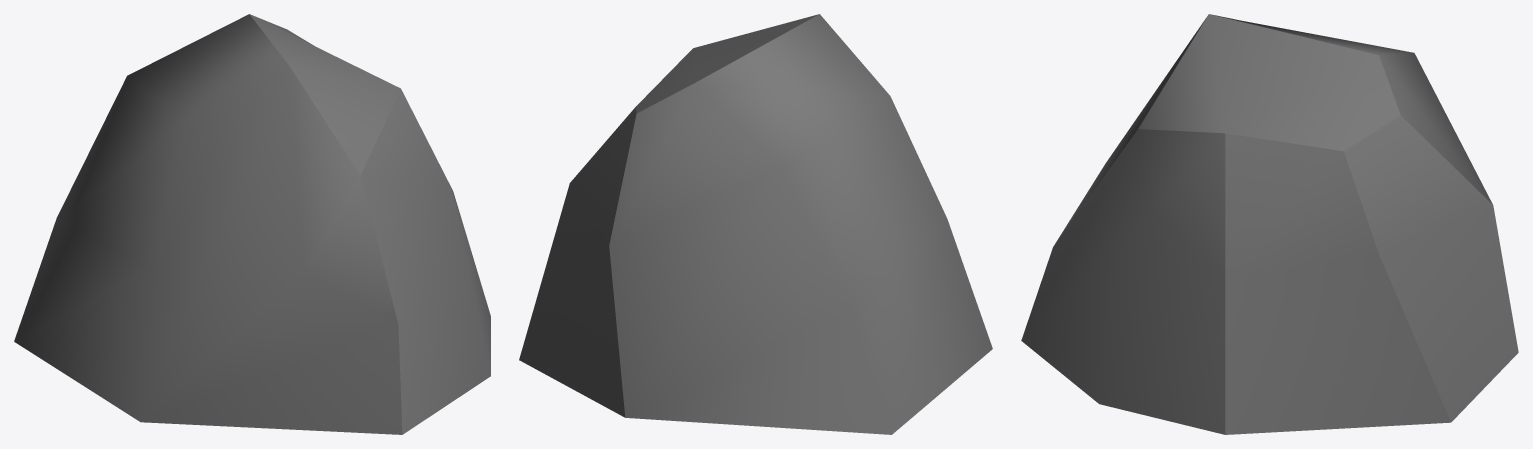
The model's file is rock2.fbx.
3 views of the same model, side by side, from view 1: azimuth 30°, elevation 25°; view 2: azimuth 150°, elevation 25°; view 3: azimuth 270°, elevation 25° (orthographic). The views are drawn at different scales.
Visible parts, largest first — view 1: pCube1; view 2: pCube1; view 3: pCube1.
Part boxes in pixels (x1=…): pCube1: x1=14, y1=14, x2=490, y2=434; pCube1: x1=519, y1=14, x2=992, y2=434; pCube1: x1=1021, y1=14, x2=1518, y2=434.
Size of the model in its own units: 2.01 by 1.54 by 2.2.
1 material, 1 textured.
